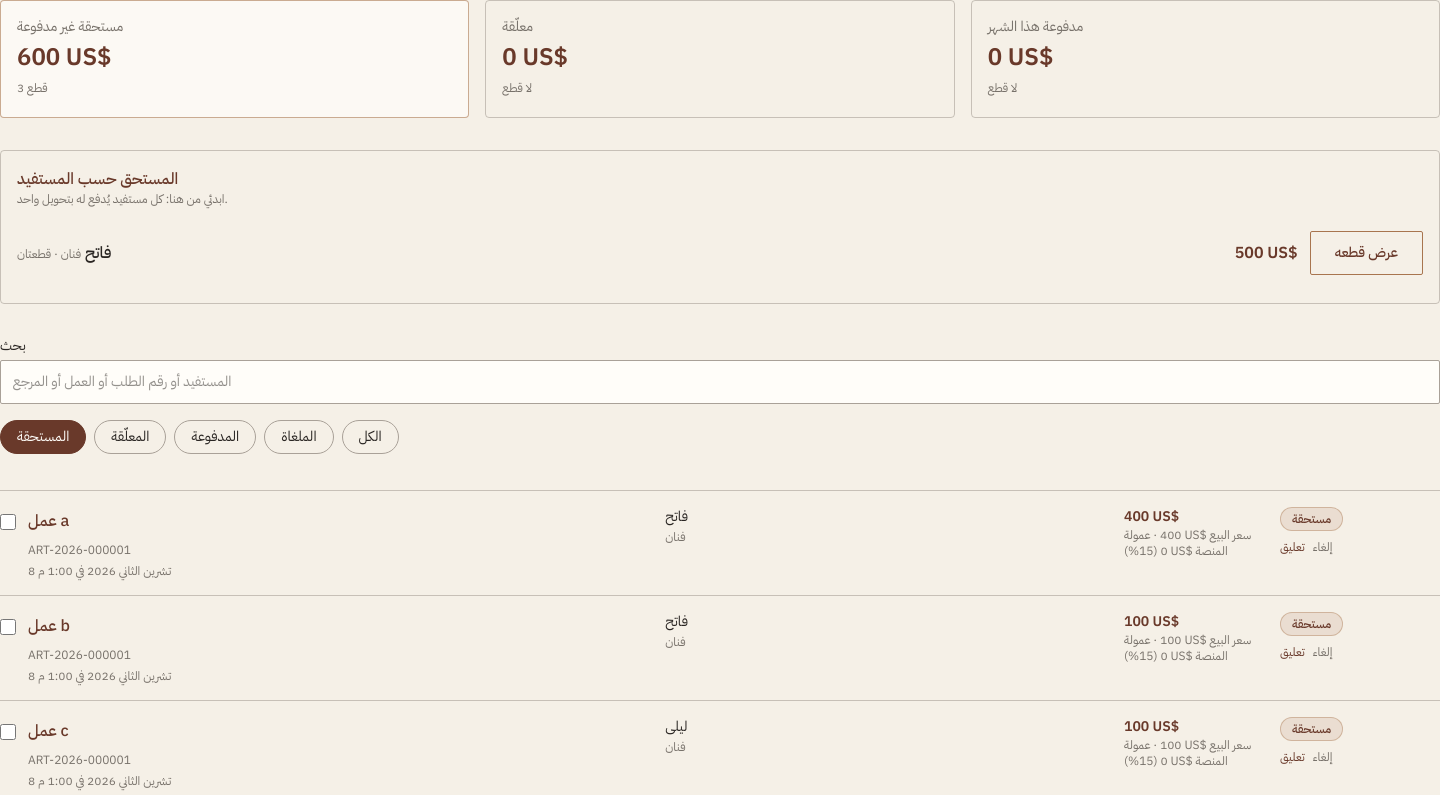
Test: SettlementsManager › selects one payee at a time and records a single referenced transfer
The image size is (1440, 795).
Expected: the heading "المستحق حسب المستفيد" is shown, 17,167 -> 178,191
Click the checkbox named "تحديد تسوية عمل a": [8, 522] box 0,514 -> 16,530
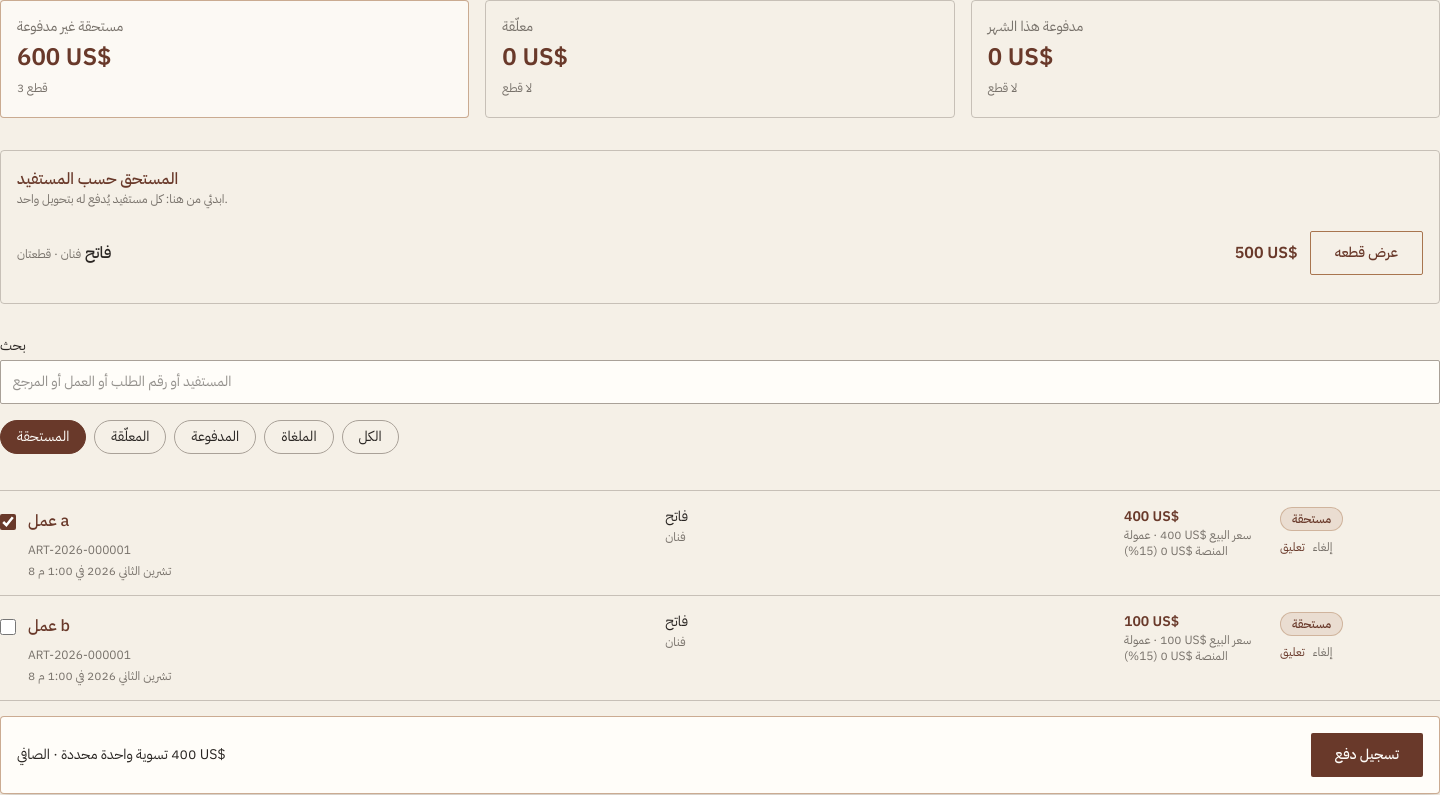
Click the checkbox named "تحديد تسوية عمل b": [8, 627] box 0,619 -> 16,635
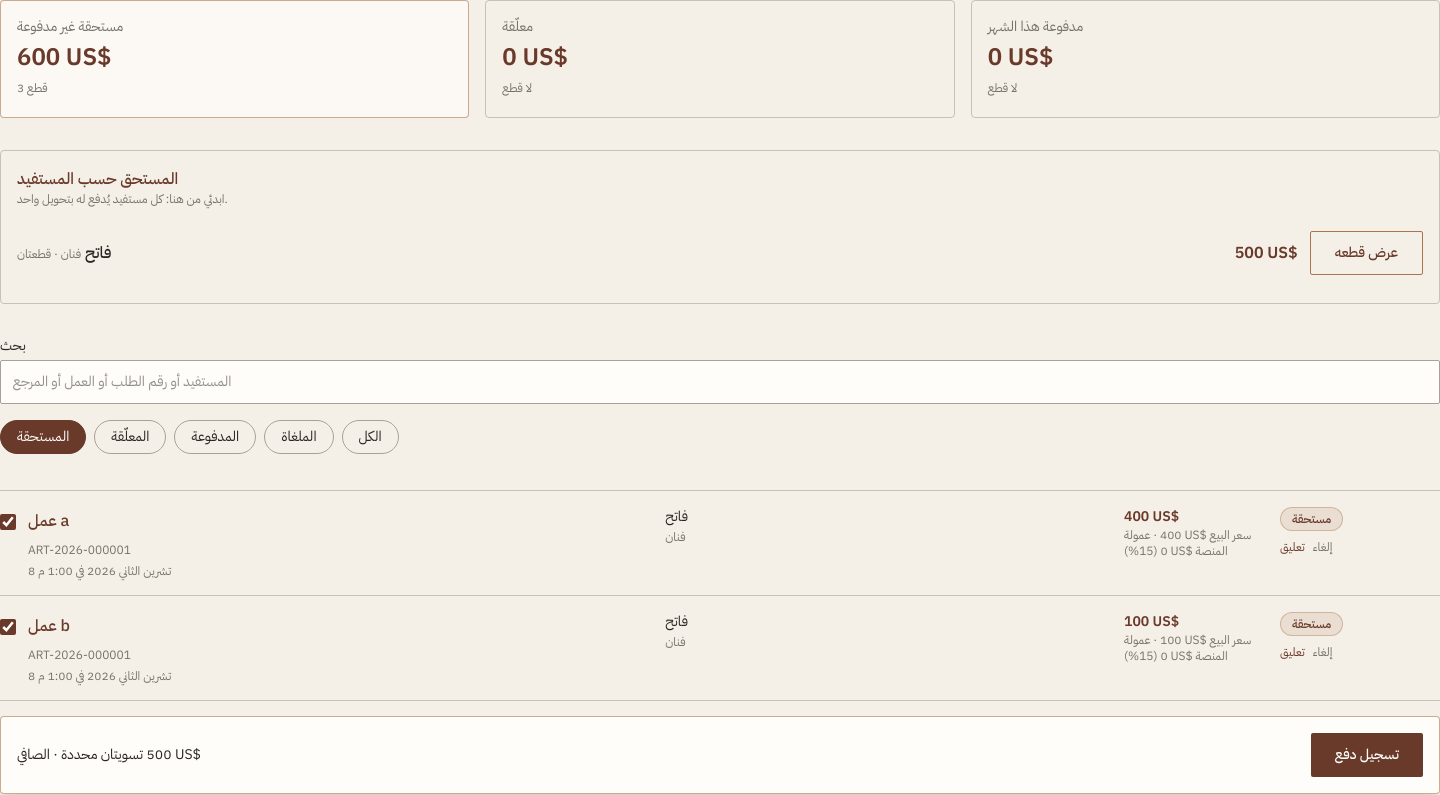
Now the checkbox named "تحديد تسوية عمل c" is disabled, box 0,724 -> 16,740
Now the text "تسويتان محددة · الصافي 500 US$" is shown, box 17,744 -> 201,765
Click the button "تسجيل دفع": [1367, 755] box 1311,733 -> 1423,777
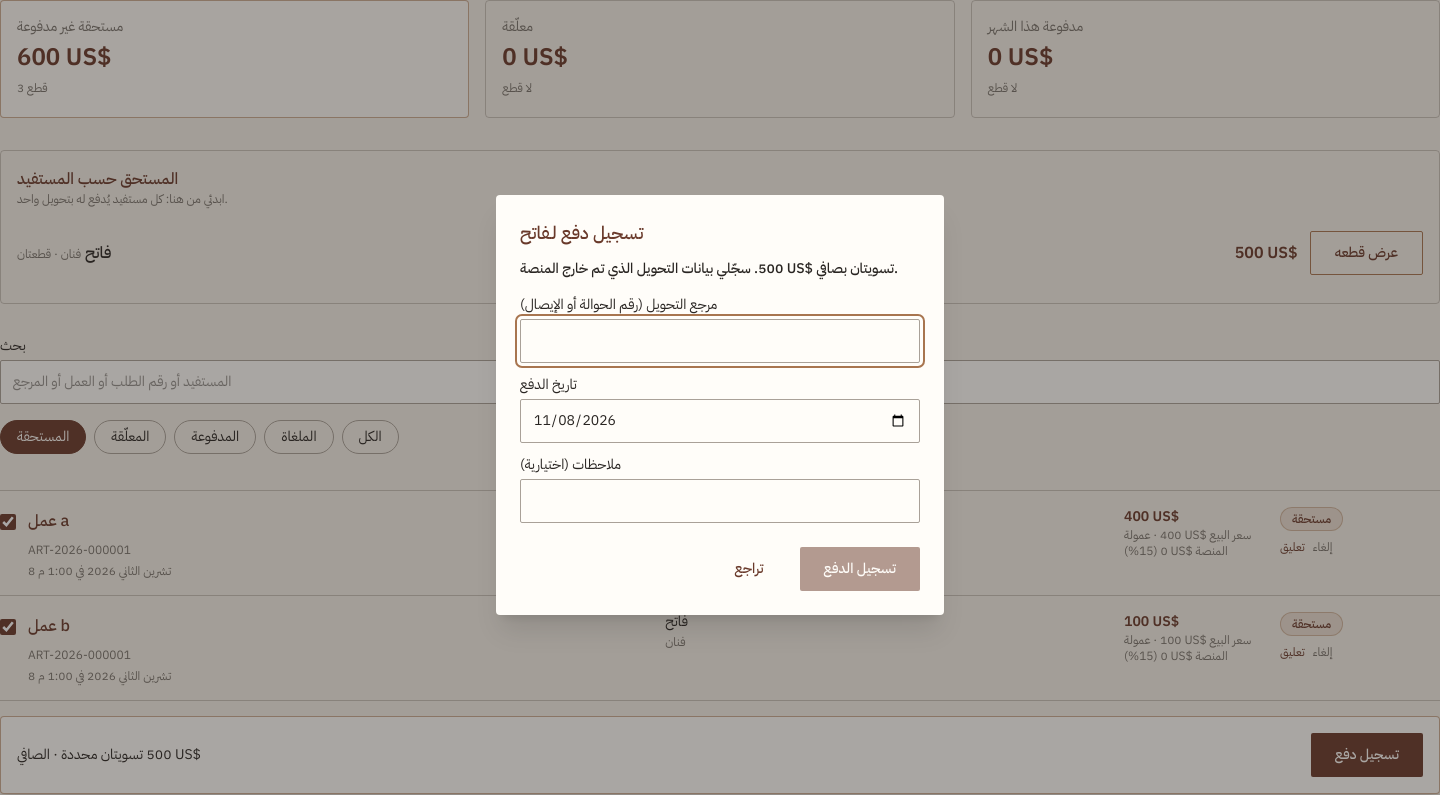
Now the button "تسجيل الدفع" is disabled, box 800,547 -> 920,591
In the field labelled "مرجع التحويل (رقم الحوالة أو الإيصال)": [720, 341] box 520,319 -> 920,363, type "HW-9"
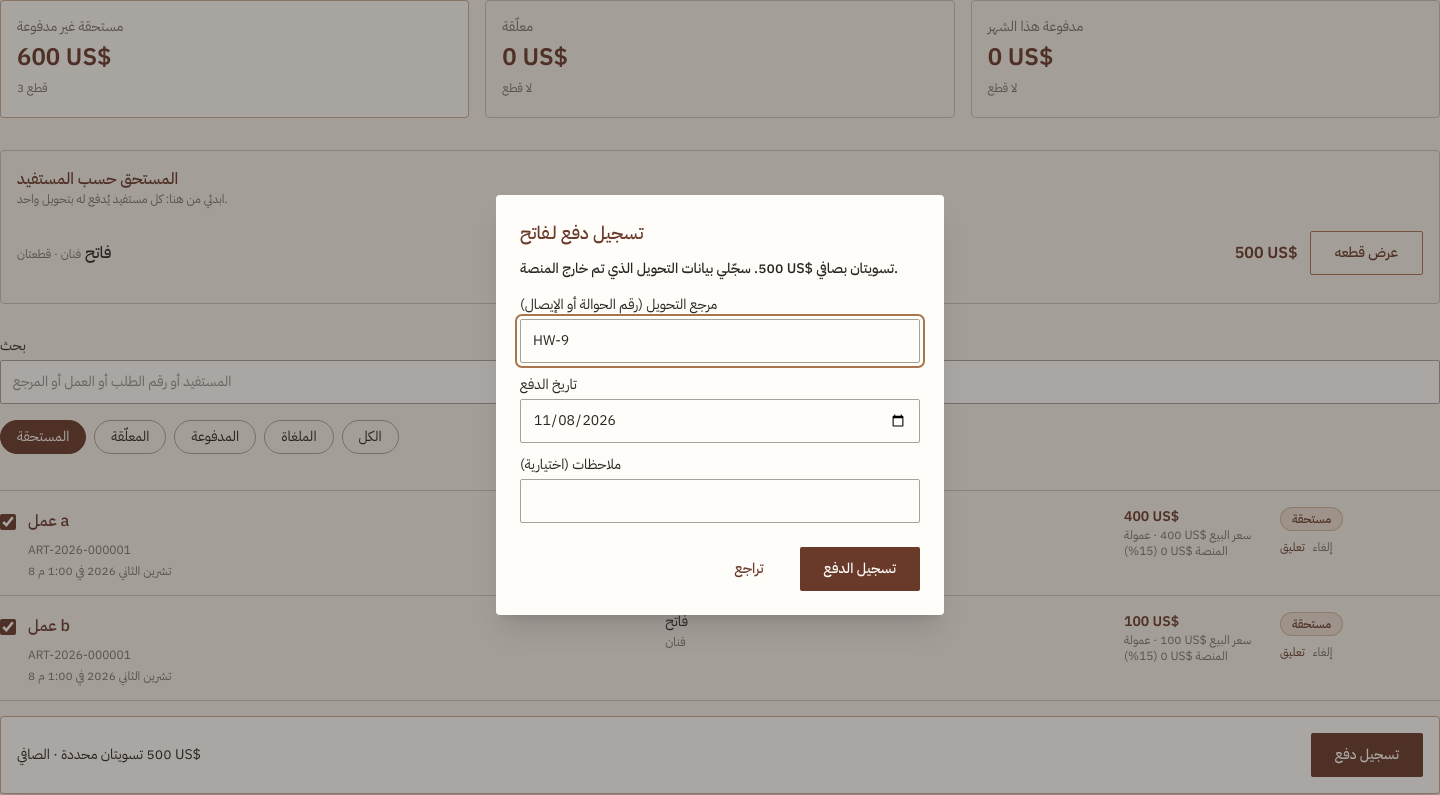
Click the button "تسجيل الدفع": [860, 569] box 800,547 -> 920,591
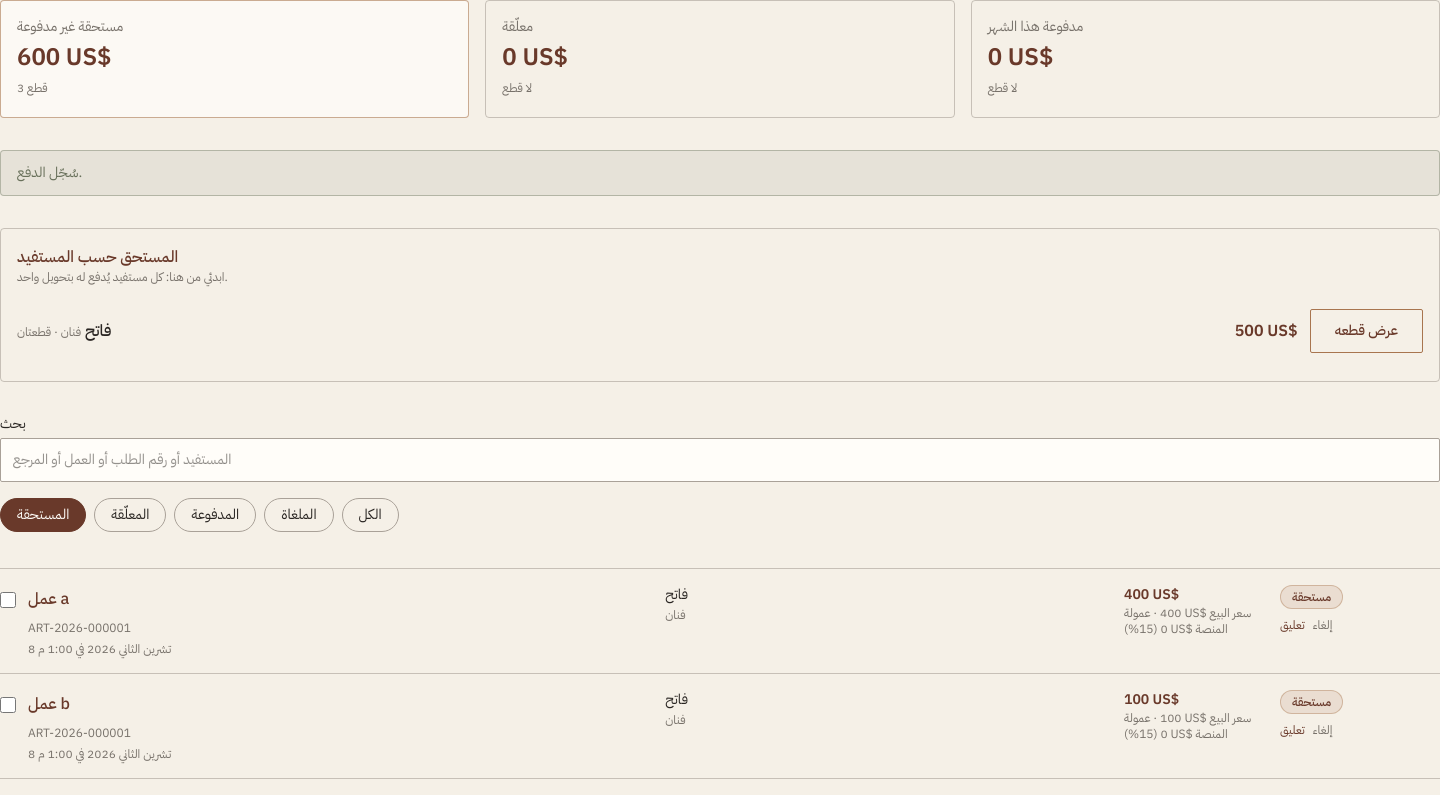
Now the text "سُجّل الدفع." is shown, box 0,150 -> 1439,196
